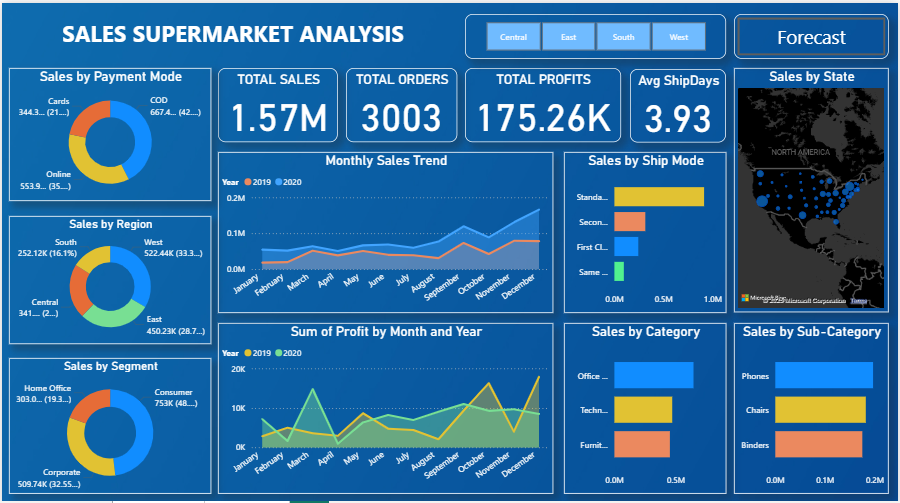

The dashboard page shown, as its layout file describes it:
{"tool":"powerbi","page":{"name":"Overview","canvas":[1280,720],"ordinal":0},"visuals":[{"type":"textbox","box":[9.9,15.6,640.6,63.8],"z":0},{"type":"card","title":"TOTAL SALES","fields":{"Values":["Sales_Dataset_proj2.Sales"]},"box":[309,93.5,171.5,106.3],"z":1000},{"type":"card","title":"TOTAL ORDERS","fields":{"Values":["Sales_Dataset_proj2.Order ID"]},"box":[491.8,93.5,158.7,106.3],"z":2000},{"type":"card","title":"TOTAL PROFITS","fields":{"Values":["Sales_Dataset_proj2.Profit"]},"box":[661.9,93.5,222.5,106.3],"z":3000},{"type":"donutChart","title":"Sales by Payment Mode","fields":{"Category":["Sales_Dataset_proj2.Payment Mode"],"Y":["Sales_Dataset_proj2.Sales"]},"box":[9.9,93.5,289.1,189.9],"z":4000},{"type":"donutChart","title":"Sales by Region","fields":{"Category":["Sales_Dataset_proj2.Region"],"Y":["Sales_Dataset_proj2.Sales"]},"box":[9.9,304.7,289.1,182.8],"z":5000},{"type":"donutChart","title":"Sales by Segment","fields":{"Y":["Sales_Dataset_proj2.Sales"],"Category":["Sales_Dataset_proj2.Segment"]},"box":[9.9,507.4,289.1,194.2],"z":6000},{"type":"areaChart","fields":{"Category":["Sales_Dataset_proj2.Order Date.Variation.Date Hierarchy.Month"],"Y":["Sales_Dataset_proj2.Profit"],"Series":["Sales_Dataset_proj2.Order Date.Variation.Date Hierarchy.Year"]},"box":[309,457.8,479.1,243.8],"z":7000},{"type":"barChart","title":"Sales by Ship Mode","fields":{"Category":["Sales_Dataset_proj2.Ship Mode"],"Y":["Sales_Dataset_proj2.Sales"],"Series":["Sales_Dataset_proj2.Ship Mode"]},"box":[802.2,212.6,232.4,229.6],"z":8000},{"type":"barChart","title":"Sales by Category","fields":{"Y":["Sales_Dataset_proj2.Sales"],"Category":["Sales_Dataset_proj2.Category"],"Series":["Sales_Dataset_proj2.Category"]},"box":[802.2,457.8,232.4,243.8],"z":9000},{"type":"map","title":"Sales by State","fields":{"Category":["Sales_Dataset_proj2.State"],"Size":["Sales_Dataset_proj2.Sales"]},"box":[1046,93.5,221.1,348.7],"z":10000},{"type":"barChart","title":"Sales by Sub-Category","fields":{"Y":["Sales_Dataset_proj2.Sales"],"Category":["Sales_Dataset_proj2.Sub-Category"],"Series":["Sales_Dataset_proj2.Sub-Category"]},"box":[1046,457.8,221.1,243.8],"z":11000},{"type":"slicer","fields":{"Values":["Sales_Dataset_proj2.Region"]},"box":[661.4,15.7,372.9,64.3],"z":12000},{"type":"card","title":"Avg ShipDays","fields":{"Values":["Sales_Dataset_proj2.ShipDays"]},"box":[897.2,95,137.5,104.9],"z":13000},{"type":"areaChart","title":"Monthly Sales Trend","fields":{"Y":["Sales_Dataset_proj2.Sales"],"Category":["Sales_Dataset_proj2.Order Date.Variation.Date Hierarchy.Month"],"Series":["Sales_Dataset_proj2.Order Date.Variation.Date Hierarchy.Year"]},"box":[309,212.6,479.1,229.6],"z":14000},{"type":"actionButton","box":[1045.7,15.7,221.4,64.3],"z":15000}]}

Visuals, with their boxes in screenshot pixels (x1, y1, x2, y2), scaled from the page's 1280x720 canvas onto the 900x503 screenshot:
textbox: (7, 11, 457, 55)
"TOTAL SALES" card: (217, 65, 338, 140)
"TOTAL ORDERS" card: (346, 65, 457, 140)
"TOTAL PROFITS" card: (465, 65, 622, 140)
"Sales by Payment Mode" donutChart: (7, 65, 210, 198)
"Sales by Region" donutChart: (7, 213, 210, 341)
"Sales by Segment" donutChart: (7, 354, 210, 490)
areaChart - Sales_Dataset_proj2.Order Date.Variation.Date Hierarchy.Month x Sales_Dataset_proj2.Profit: (217, 320, 554, 490)
"Sales by Ship Mode" barChart: (564, 149, 727, 309)
"Sales by Category" barChart: (564, 320, 727, 490)
"Sales by State" map: (735, 65, 891, 309)
"Sales by Sub-Category" barChart: (735, 320, 891, 490)
slicer - Sales_Dataset_proj2.Region: (465, 11, 727, 56)
"Avg ShipDays" card: (631, 66, 728, 140)
"Monthly Sales Trend" areaChart: (217, 149, 554, 309)
actionButton: (735, 11, 891, 56)
